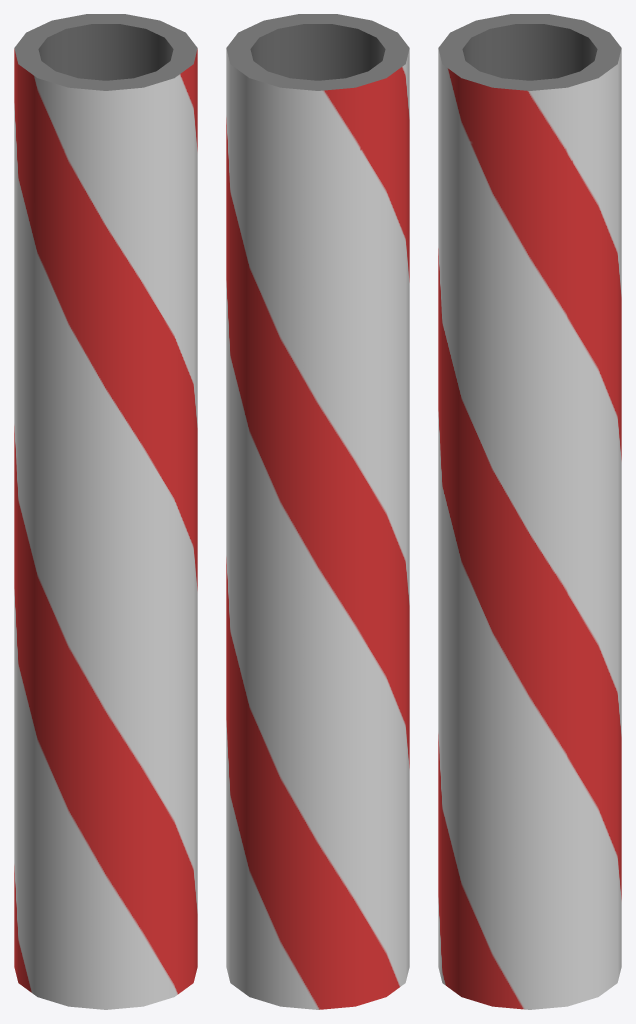
The model's file is SM_Straw.fbx.
3 views of the same model, side by side, from view 1: azimuth 30°, elevation 25°; view 2: azimuth 150°, elevation 25°; view 3: azimuth 270°, elevation 25° (orthographic).
Visible parts, largest first — view 1: SM_Straw; view 2: SM_Straw; view 3: SM_Straw.
Part boxes in pixels (box(x1,y1,x2,y2)): SM_Straw: box(14, 14, 197, 1009); SM_Straw: box(226, 14, 409, 1009); SM_Straw: box(438, 14, 621, 1009).
Bounding box in the file's own units: 0.1616 × 0.8984 × 0.1625.
Materials: 2 (1 with a texture image).
